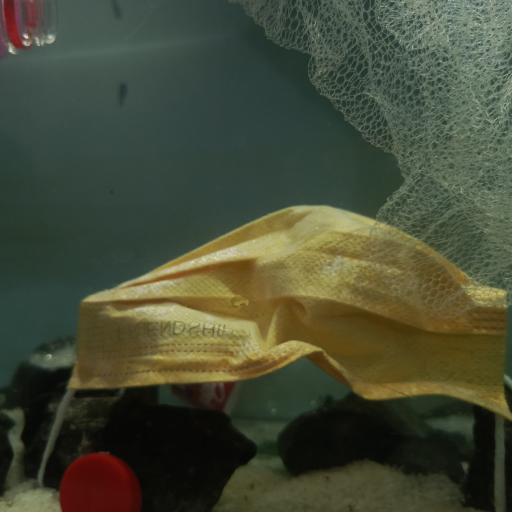bottle_cap: (60, 450, 137, 512)
mask: (64, 200, 512, 422)
net: (236, 0, 512, 321)
plastic_bottle: (154, 371, 335, 424), (2, 0, 61, 59)
